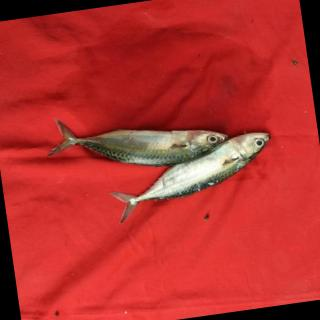Ikan: (48, 84, 286, 234)
